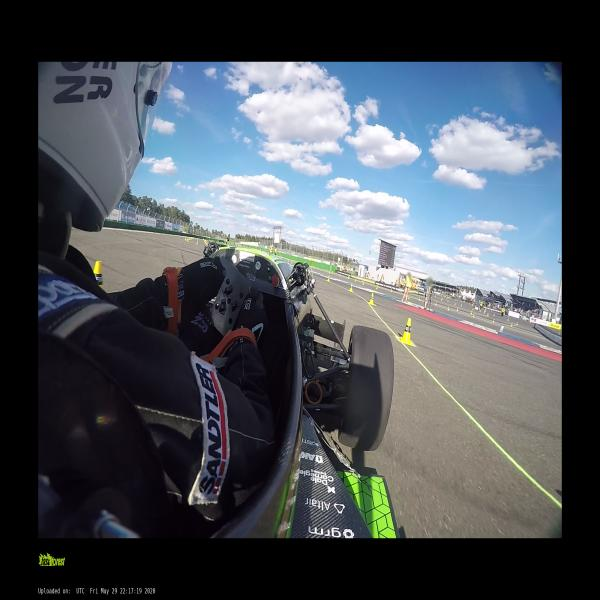yellow_cone: (400, 318, 413, 344), (94, 262, 103, 288), (369, 294, 374, 306), (326, 274, 330, 282), (350, 284, 353, 292), (472, 312, 475, 318), (448, 306, 450, 312), (418, 297, 421, 301), (492, 318, 494, 323), (376, 285, 378, 289), (196, 241, 198, 245), (362, 281, 364, 285), (348, 276, 349, 280)
